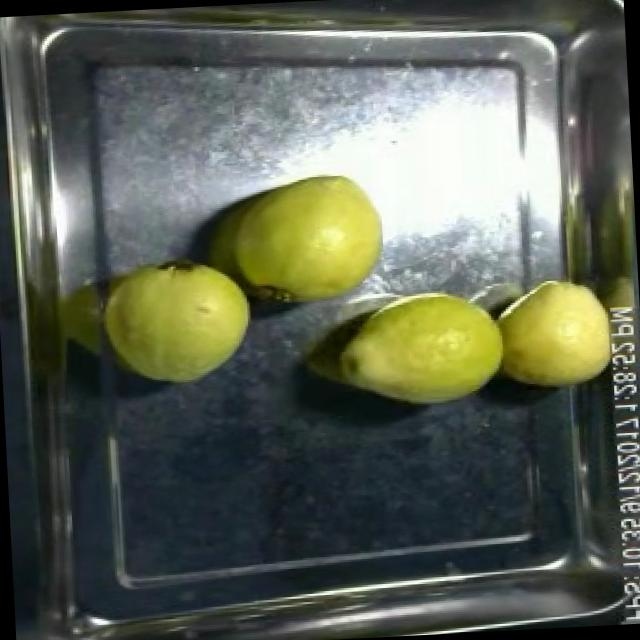Fruit: (188, 160, 398, 310), (328, 278, 518, 415), (96, 250, 264, 396), (486, 268, 634, 399)
